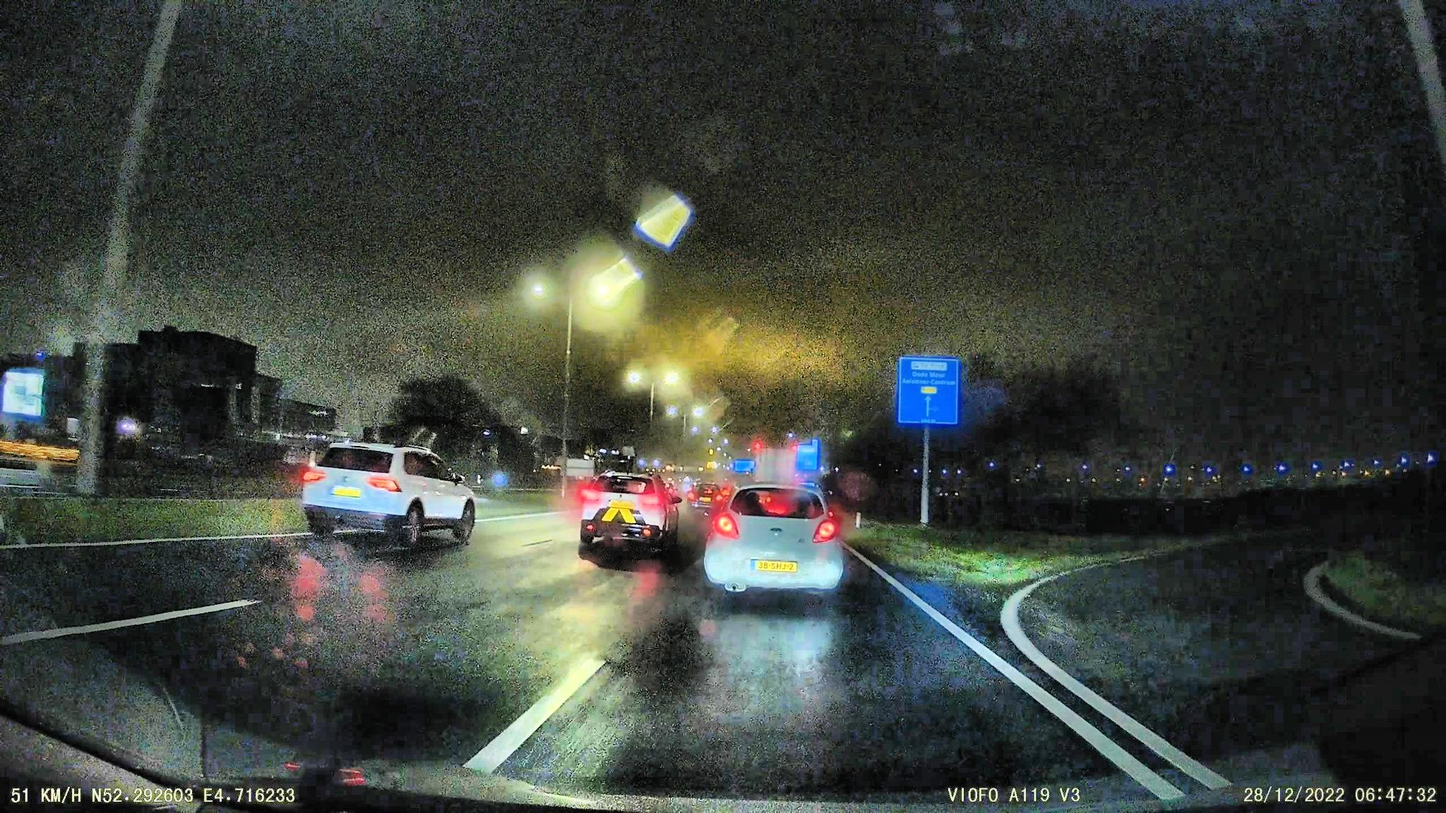Roads: (0, 516, 1446, 813)
